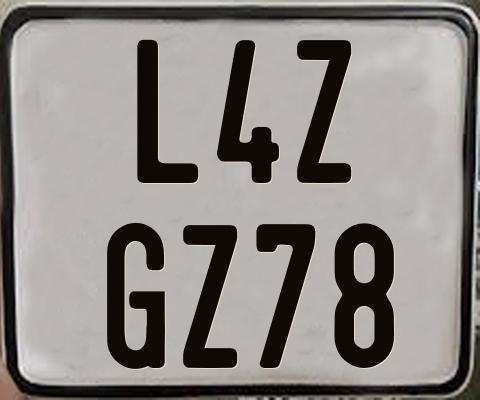4: (217, 37, 279, 185)
7: (256, 222, 315, 367)
8: (331, 221, 397, 369)
G: (105, 223, 165, 369)
L: (135, 39, 201, 185)
Z: (294, 39, 351, 185), (181, 223, 236, 371)
